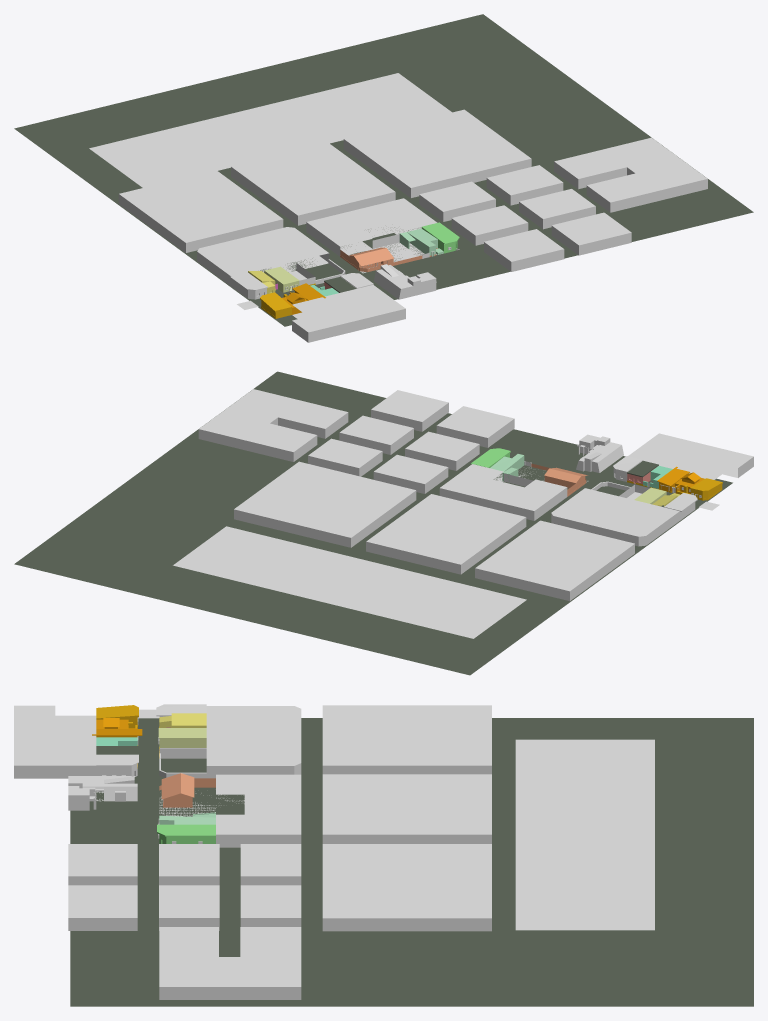
File: BaseCasas01.fbx
The picture shows the model from 3 angles, top to bottom: view 1: azimuth 30°, elevation 25°; view 2: azimuth 150°, elevation 25°; view 3: azimuth 270°, elevation 25°; orthographic projection. The views are drawn at different scales.
Visible parts, largest first — view 1: Piso, Plane.018, Plane.019, Plane.014, Plane.016, Plane.023, Cuadra2, Cuadra1, Plane.003, Plane.020, Plane.021, Plane.007 (+8 smaller); view 2: Piso, Plane.018, Plane.019, Plane.016, Plane.014, Plane.023, Cuadra2, Plane.003, Cuadra1, Plane.020, Plane.021, Plane.008 (+5 smaller); view 3: Piso, Plane.018, Plane.019, Plane.016, Plane.014, Plane.023, Cuadra2, Cuadra1, Plane.003, Plane.021, Plane.020, Plane.013 (+15 smaller).
Boxes of the visible parts, left/top/right/bottom form: Piso: left=14, top=14, right=753, bottom=326; Plane.018: left=89, top=73, right=451, bottom=187; Plane.019: left=343, top=109, right=531, bottom=197; Plane.014: left=118, top=170, right=283, bottom=252; Plane.016: left=231, top=142, right=395, bottom=225; Plane.023: left=554, top=137, right=707, bottom=212; Cuadra2: left=197, top=227, right=329, bottom=286; Cuadra1: left=292, top=285, right=405, bottom=342; Plane.003: left=306, top=198, right=437, bottom=256; Plane.020: left=484, top=229, right=564, bottom=271; Plane.021: left=551, top=212, right=631, bottom=255; Plane.007: left=451, top=205, right=528, bottom=245; Piso: left=14, top=371, right=732, bottom=675; Plane.018: left=173, top=526, right=526, bottom=638; Plane.019: left=234, top=461, right=416, bottom=547; Plane.016: left=366, top=494, right=526, bottom=574; Plane.014: left=475, top=520, right=634, bottom=601; Plane.023: left=198, top=389, right=348, bottom=461; Cuadra2: left=551, top=488, right=679, bottom=546; Plane.003: left=439, top=464, right=567, bottom=520; Cuadra1: left=628, top=433, right=753, bottom=479; Plane.020: left=436, top=406, right=514, bottom=447; Plane.021: left=371, top=390, right=448, bottom=431; Plane.008: left=373, top=454, right=448, bottom=493; Piso: left=70, top=718, right=753, bottom=1006; Plane.018: left=515, top=739, right=654, bottom=930; Plane.019: left=322, top=844, right=491, bottom=931; Plane.016: left=322, top=774, right=491, bottom=843; Plane.014: left=322, top=705, right=491, bottom=774; Plane.023: left=159, top=927, right=301, bottom=999; Cuadra2: left=206, top=706, right=301, bottom=778; Cuadra1: left=14, top=705, right=96, bottom=778; Plane.003: left=216, top=774, right=301, bottom=847; Plane.021: left=68, top=885, right=137, bottom=930; Plane.020: left=68, top=844, right=137, bottom=885; Plane.013: left=240, top=885, right=301, bottom=926.
Bounding box in the file's own units: 33588 × 956 × 35355.
